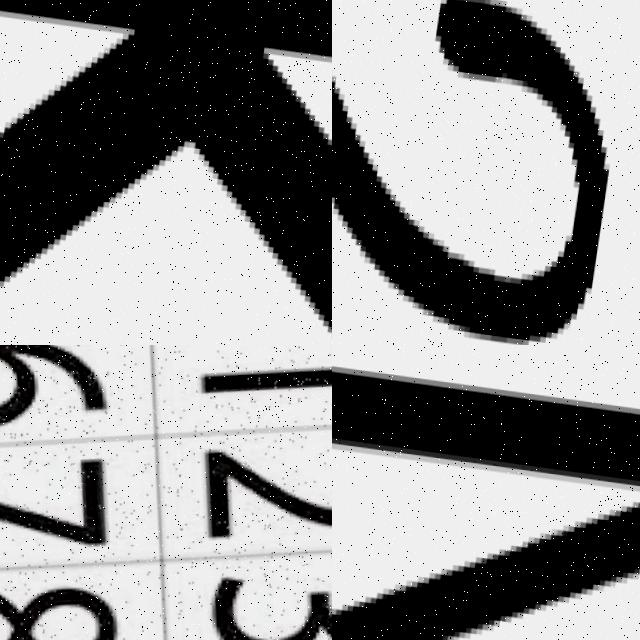1: (191, 345, 332, 415)
2: (332, 0, 640, 345), (188, 403, 332, 559)
3: (204, 530, 332, 640)
6: (0, 345, 127, 455)
7: (0, 421, 132, 576)
8: (0, 551, 142, 640)
K: (0, 0, 332, 345)
N: (332, 345, 640, 640)
